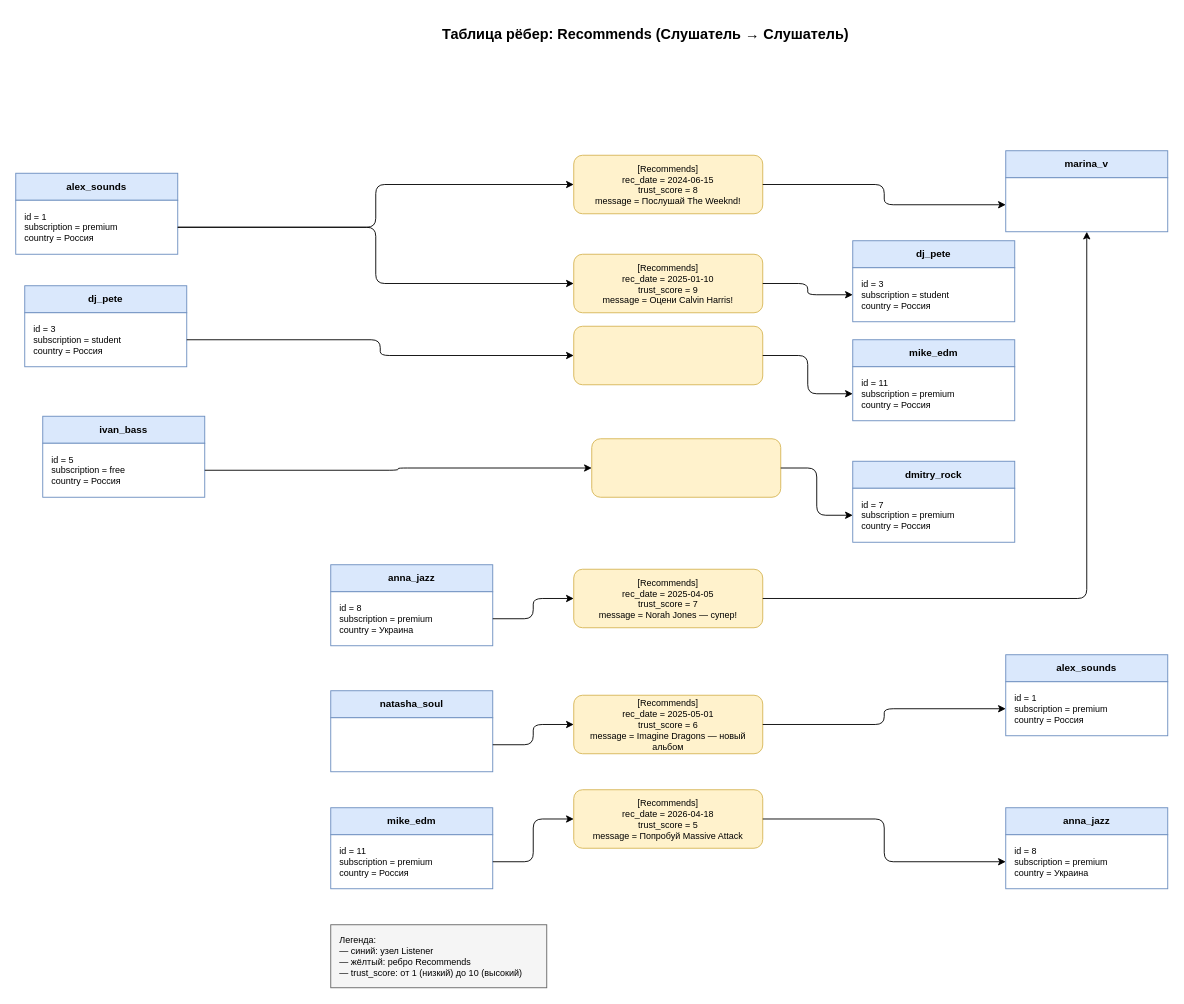
The diagram is 1184 pixels wide and 1004 high, and some of its shapes have lost their labels. The shapes that lost their labels are listed below. From the top down, each one's centre as x and y in pixels, then its label:
(1086,204): id = 2 subscription = family country = Россия
(668,355): [Recommends] rec_date = 2025-03-22 trust_score = 10 message = Stromae — бомба!
(686,467): [Recommends] rec_date = 2024-09-01 trust_score = 9 message = Linkin Park лучшие!
(411,744): id = 10 subscription = family country = Россия
